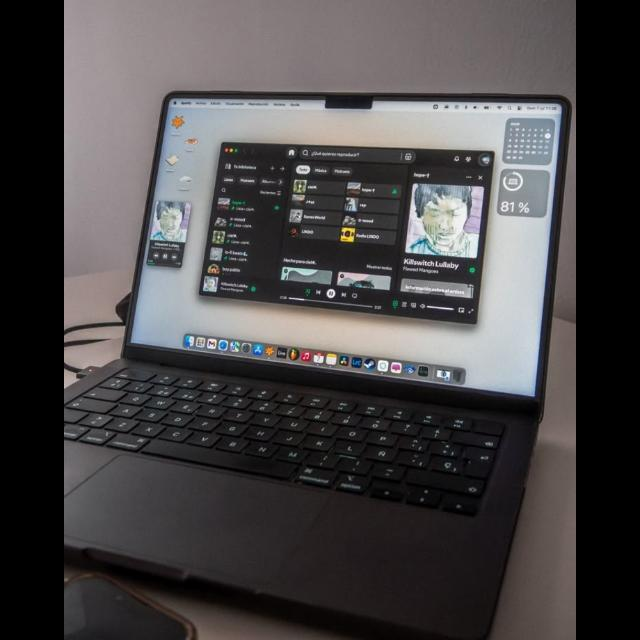laptop: (64, 90, 571, 639)
